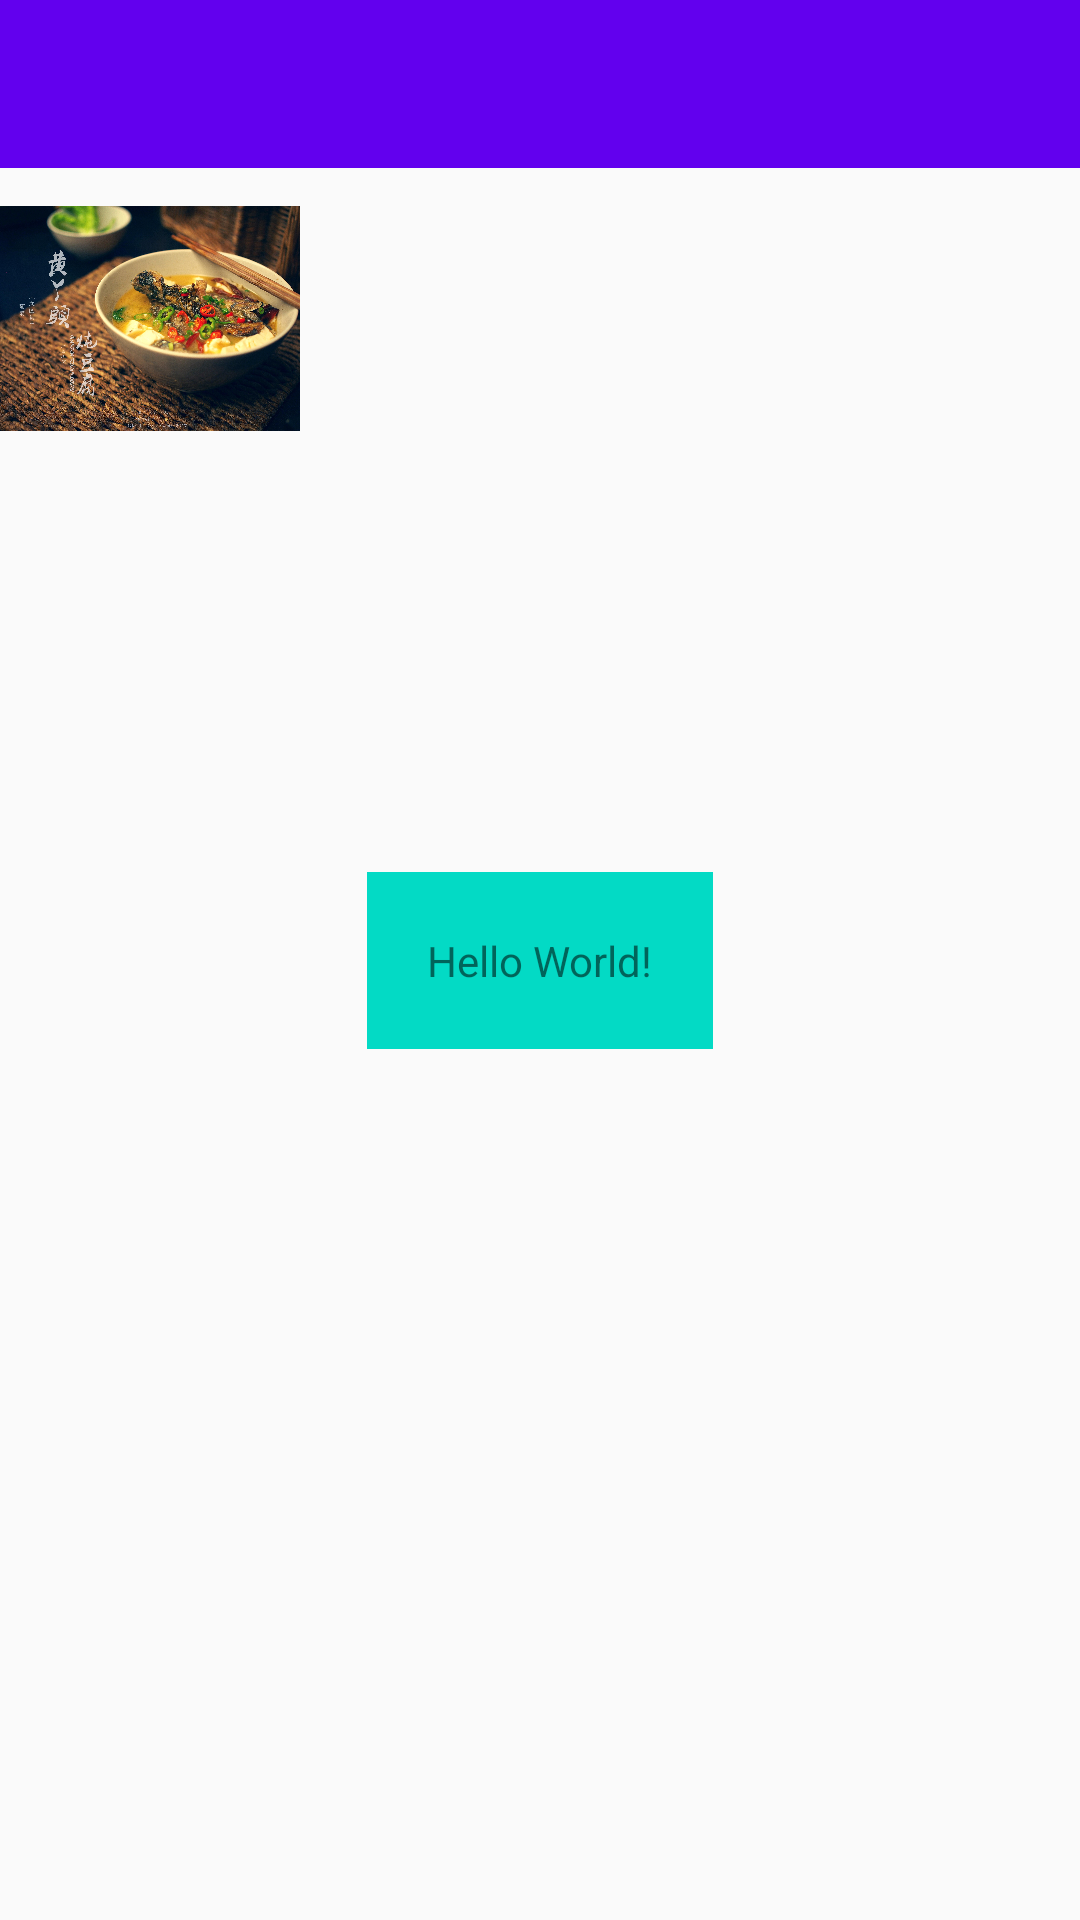

Icons on this 1080 x 1920 Android screen, each with the point to tap as (x=x, y=y):
doufu: (x=150, y=318)
